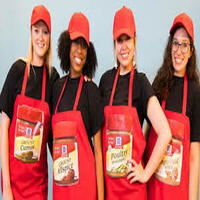person: (100, 2, 145, 74), (159, 5, 197, 83), (21, 1, 58, 68), (62, 5, 92, 82)
